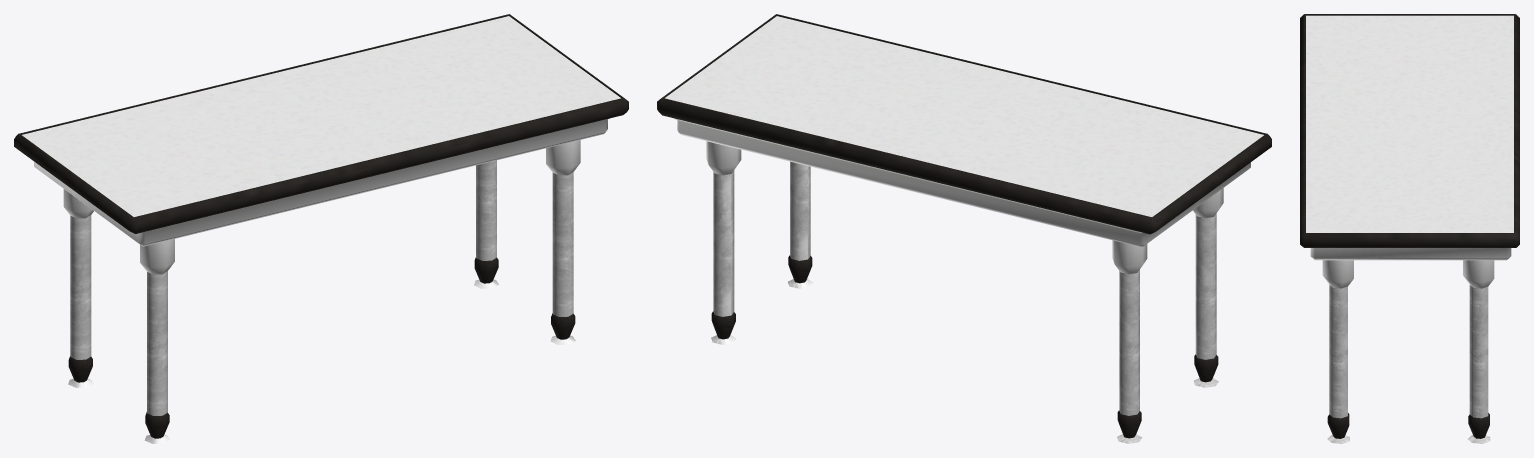
The model's file is Table Long White.fbx.
3 views of the same model, side by side, from view 1: azimuth 30°, elevation 25°; view 2: azimuth 150°, elevation 25°; view 3: azimuth 270°, elevation 25° (orthographic). The views are drawn at different scales.
Parts seen in each view (by area): view 1: Table Long White; view 2: Table Long White; view 3: Table Long White.
Boxes of the visible parts, x1,y1,x2,y2 form: Table Long White: [14, 14, 628, 443]; Table Long White: [657, 14, 1271, 443]; Table Long White: [1300, 14, 1519, 443].
Bounding box in the file's own units: 138 × 64.8 × 57.53.
